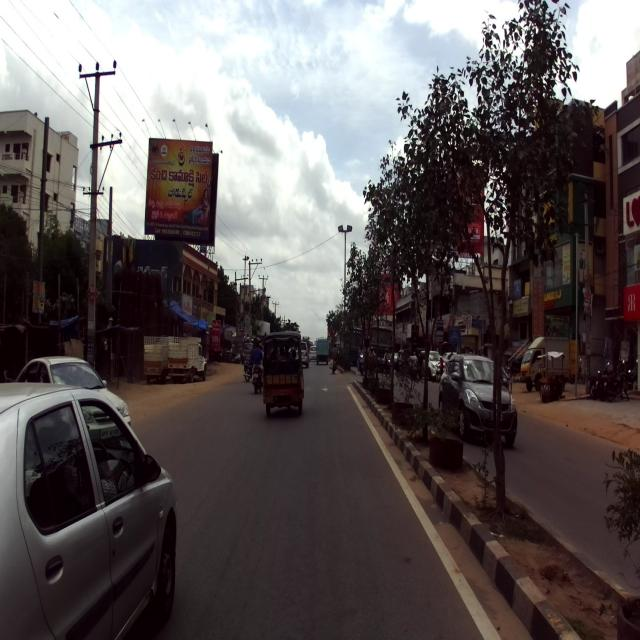car: (1, 383, 178, 639), (438, 355, 517, 448)
